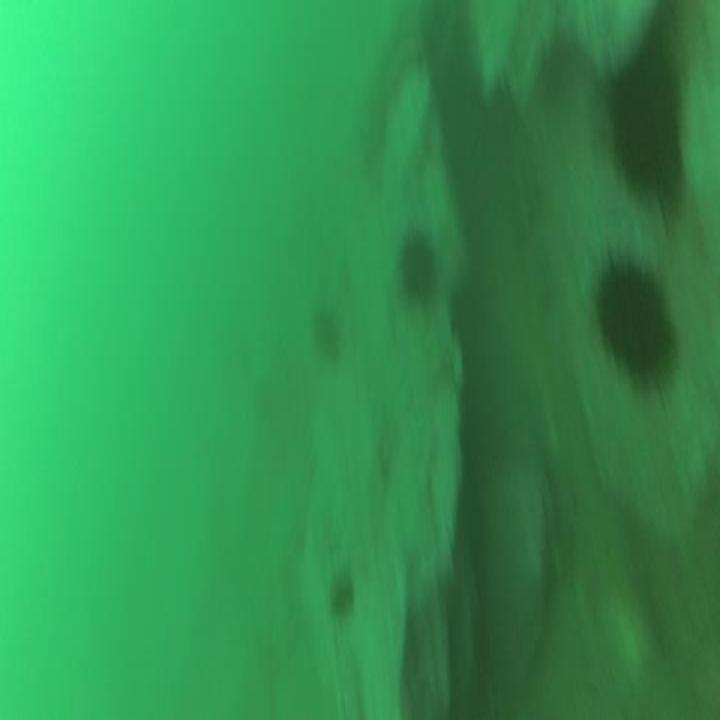echinus: (585, 238, 684, 400), (600, 46, 687, 215), (389, 213, 442, 311), (307, 297, 341, 370)
